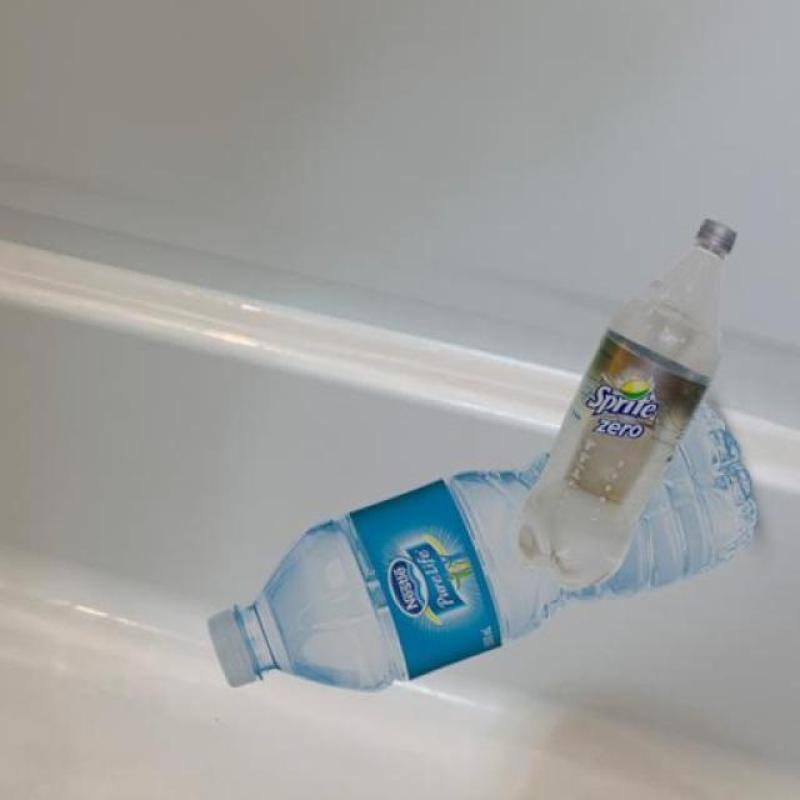botella: (210, 398, 760, 692), (516, 216, 740, 586)
